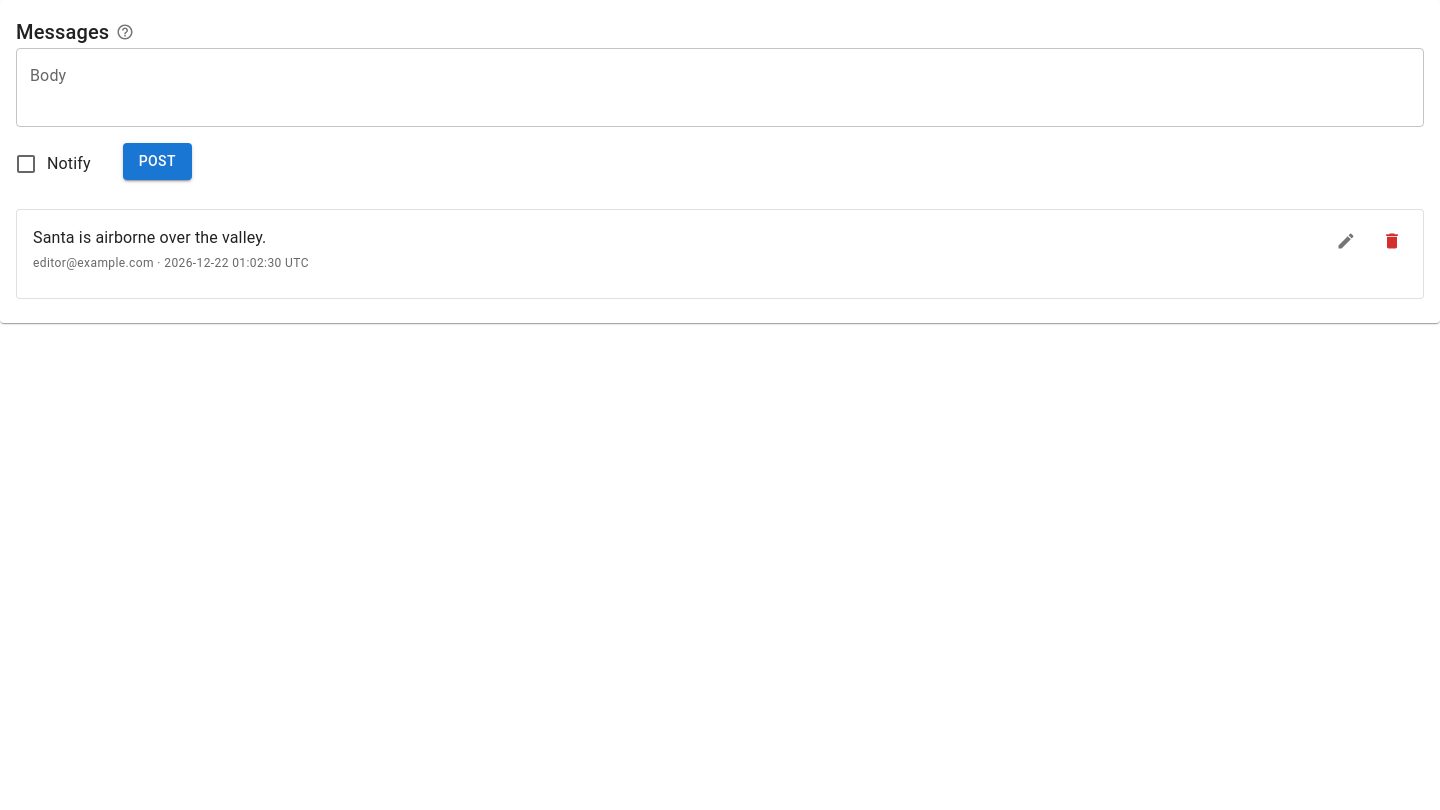
MessagesSection (admin.md 6.3) › with Notify ticked shows the verified count and the snackbar reports it
Expected: the text "Santa is airborne over the valley." is shown, [33, 228, 266, 247]
Click the checkbox labelled "Notify". click: click(52, 164)
box: [14, 152, 91, 176]
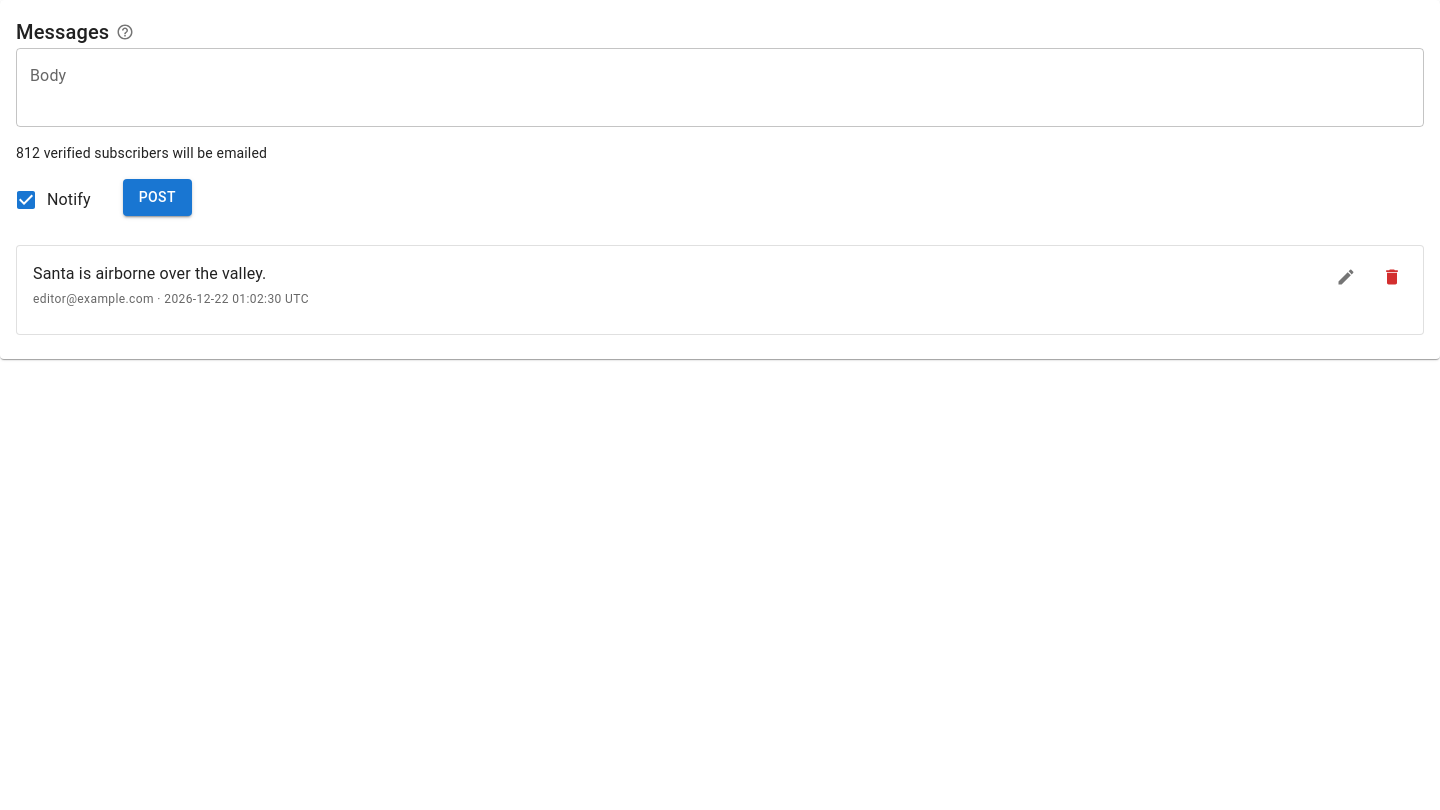
Expected: the text with test id "message-verified-line" reads "812 verified subscribers will be emailed", [16, 145, 267, 161]
Type "Wheels up." into the text box labelled "Body". click: (720, 88)
box: [30, 64, 1410, 110]
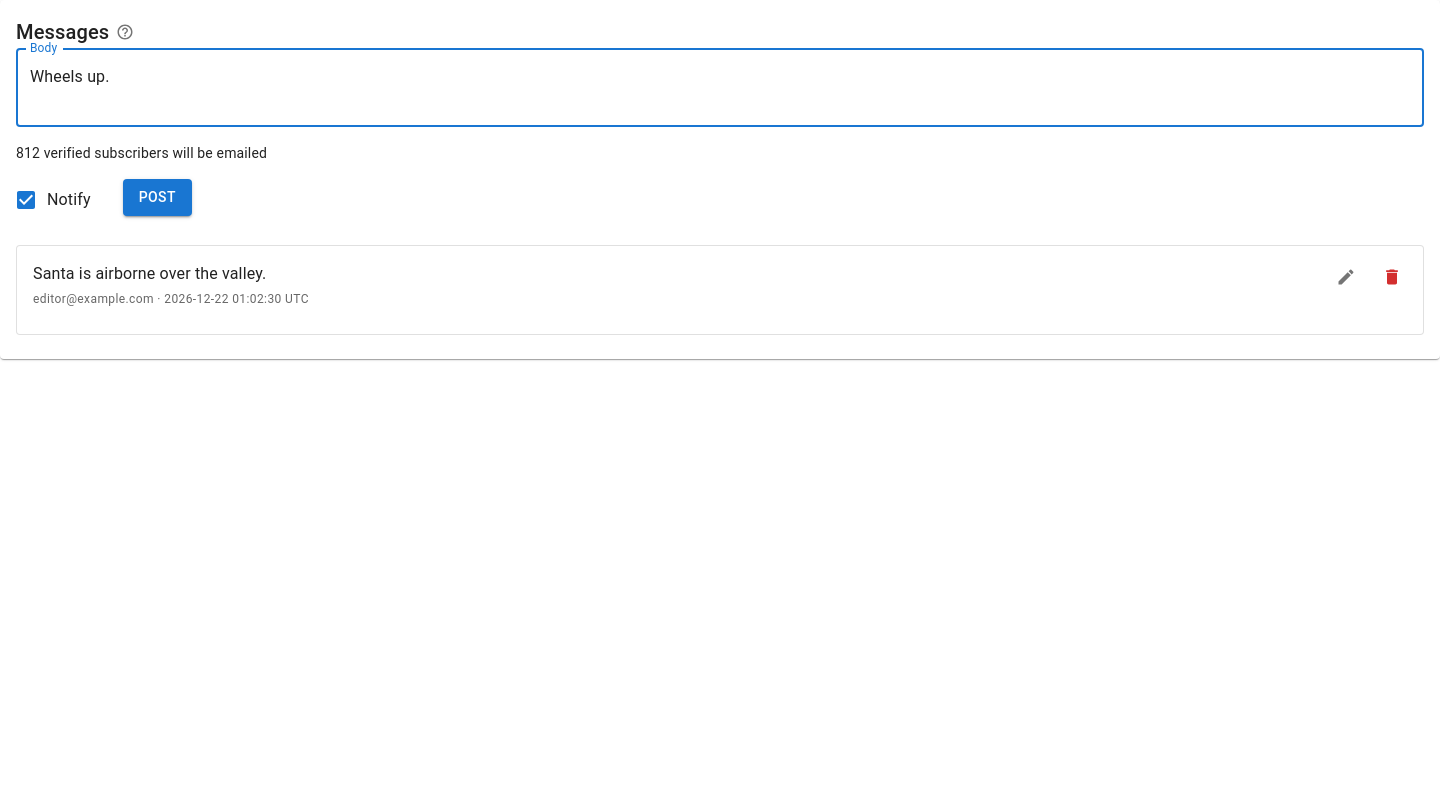
Click the button "Post". click: click(157, 197)
box: [123, 179, 192, 216]
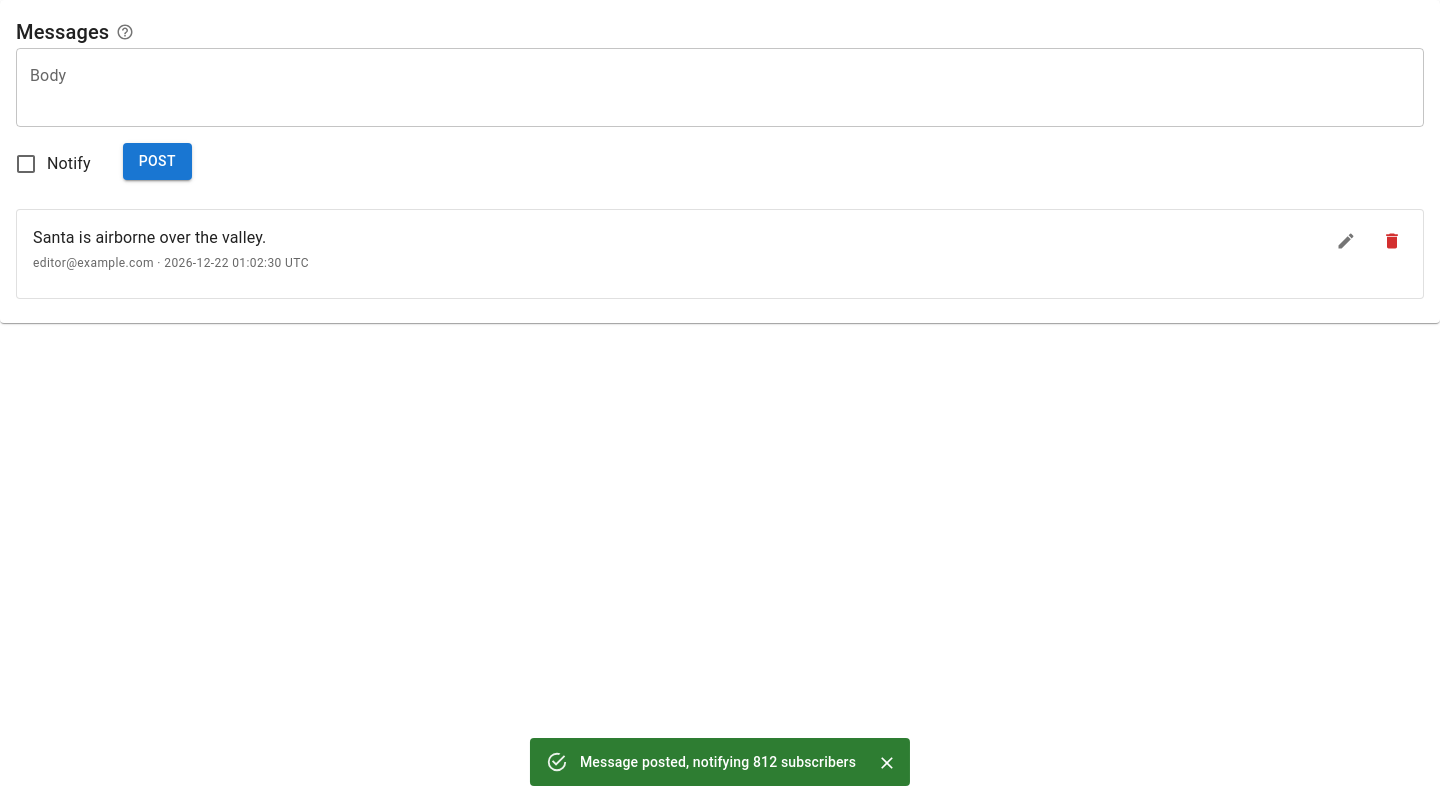
Expected: the text "Message posted, notifying 812 subscribers" is shown, [580, 754, 856, 770]
